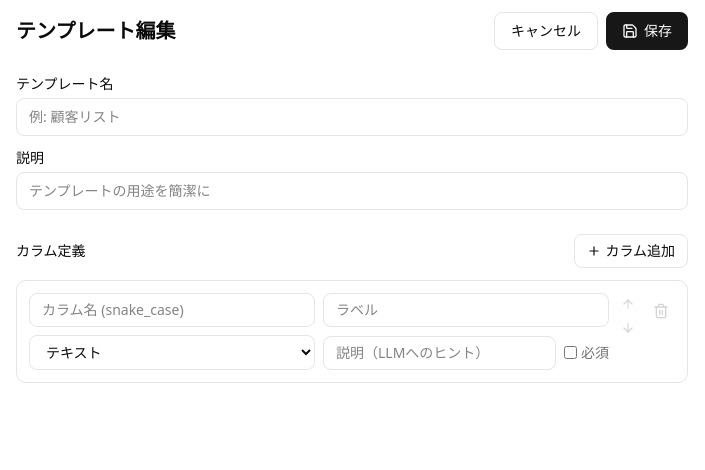
TemplateEditor › shows error when column name is empty
This screenshot has width=705, height=470.
Step 1. Type "テスト" into the field labelled "テンプレート名" → coordinates (352, 117), box top-left (16, 98), bottom-right (688, 136)
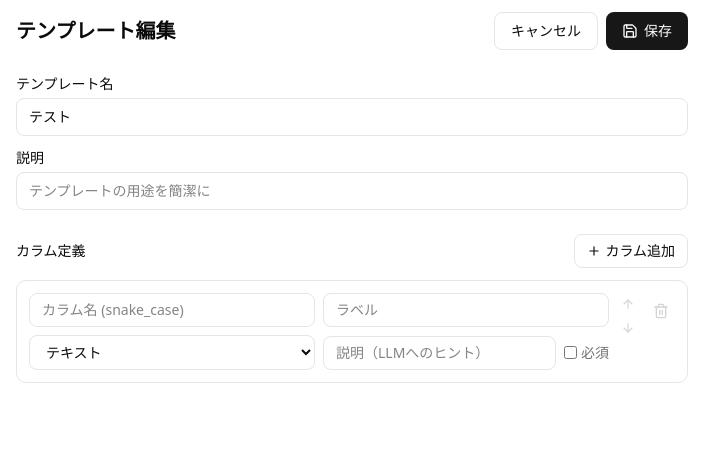
Step 2. Click the button "保存" → coordinates (647, 31), box top-left (606, 12), bottom-right (688, 50)
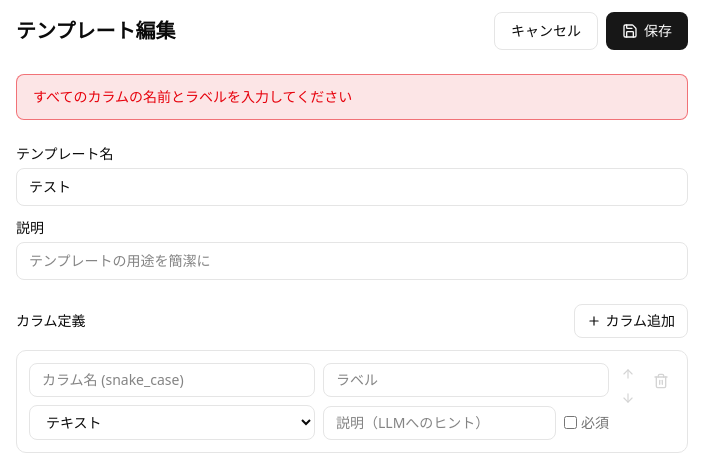
Expected: the text "すべてのカラムの名前とラベルを入力してください" is shown, top-left (16, 74), bottom-right (688, 120)
